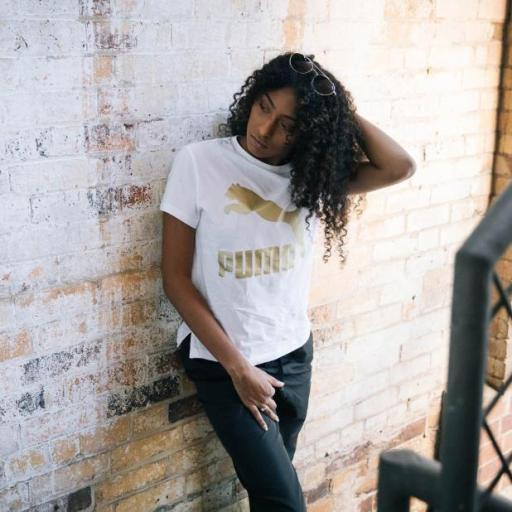Puma: (222, 181, 313, 258), (212, 241, 298, 281)
